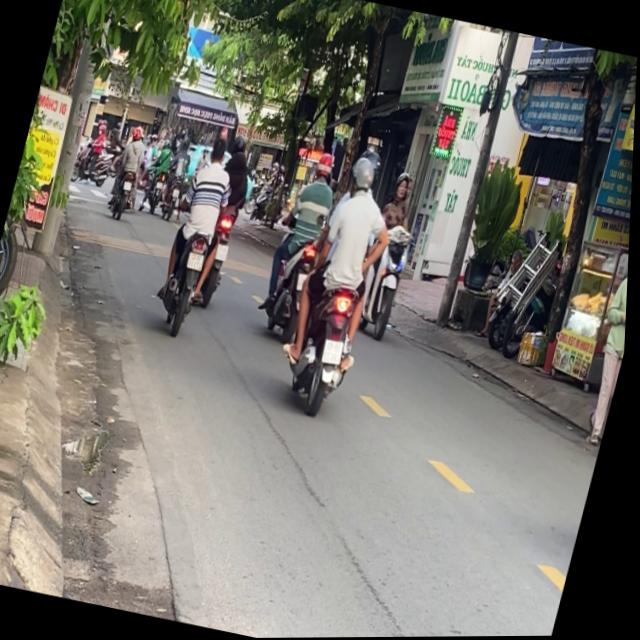helmet: (348, 152, 382, 196), (313, 148, 338, 181), (394, 169, 415, 201)
licenseplate: (275, 143, 408, 419), (149, 118, 250, 335), (255, 143, 348, 342), (353, 166, 433, 340)
motorcyclist: (207, 132, 232, 169)
nohelmet: (324, 337, 347, 364), (188, 251, 206, 270)
